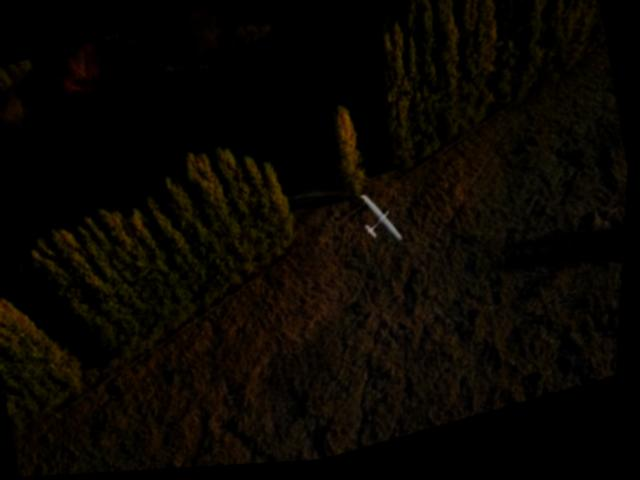uav: (358, 188, 408, 254)
